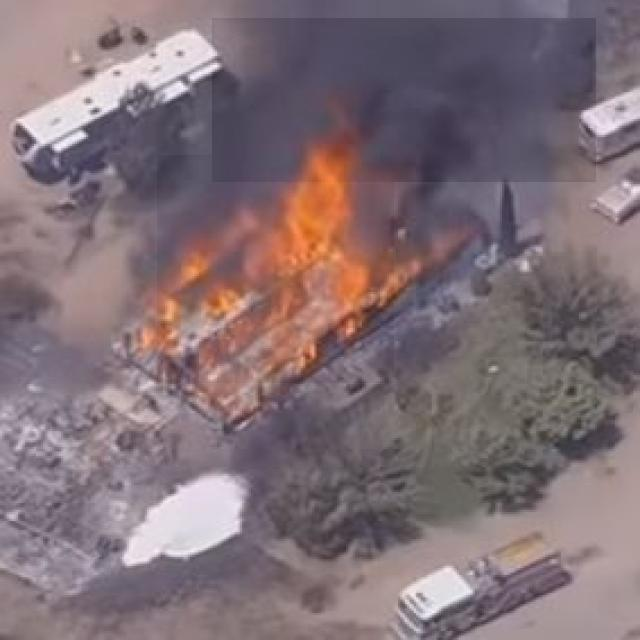Smoke: (212, 18, 596, 182), (157, 155, 394, 383)
